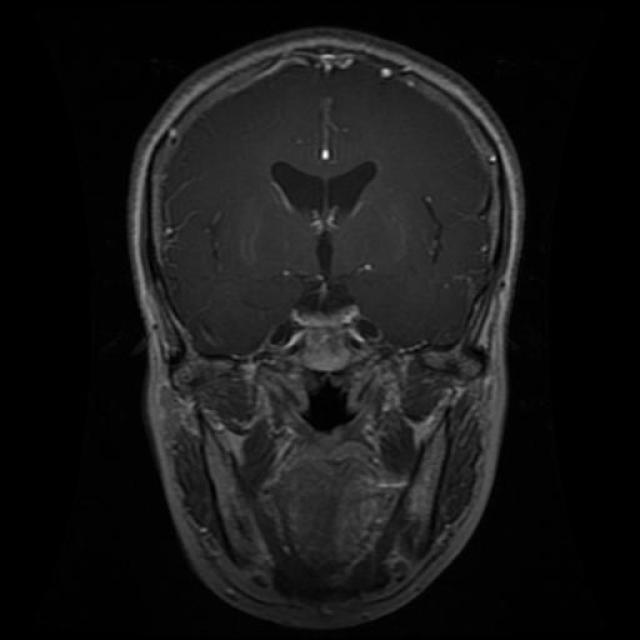glioma: (270, 158, 388, 234)
